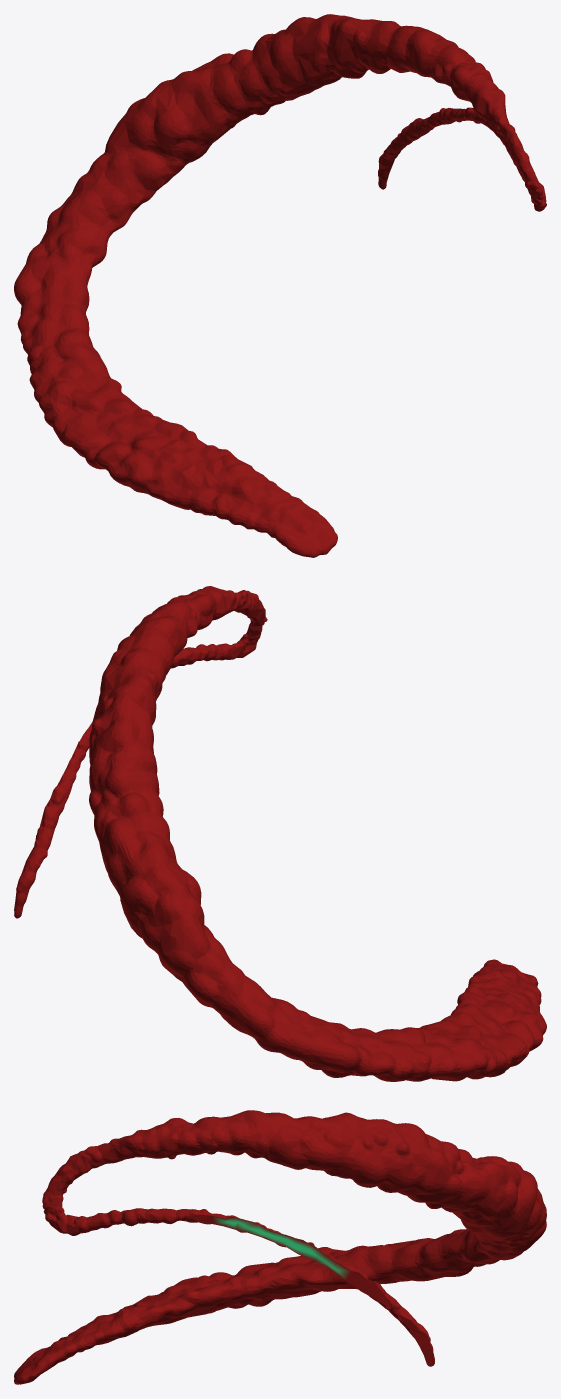
The model's file is Right_choiroid_plexus1.obj.
3 views of the same model, one above another, from view 1: azimuth 30°, elevation 25°; view 2: azimuth 150°, elevation 25°; view 3: azimuth 270°, elevation 25° (orthographic). The views are drawn at different scales.
Parts seen in each view (by area): view 1: obj0; view 2: obj0; view 3: obj0.
Part boxes in pixels (box(x1,y1,x2,y2)): obj0: box(14, 14, 546, 557); obj0: box(14, 586, 546, 1081); obj0: box(14, 1110, 546, 1384).
Size of the model in its own units: 38.42 by 34.93 by 44.56.
Materials: 1 (1 with a texture image).
